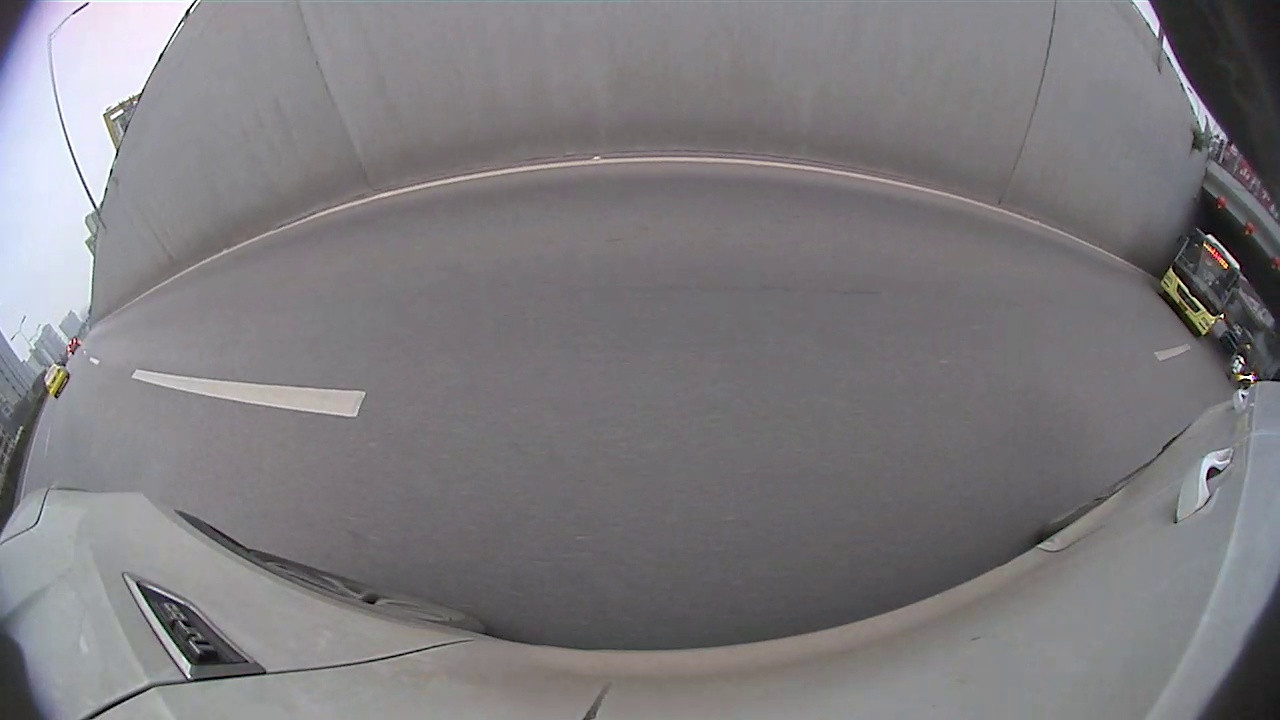bus: (1158, 225, 1239, 340)
car: (41, 364, 73, 396)
